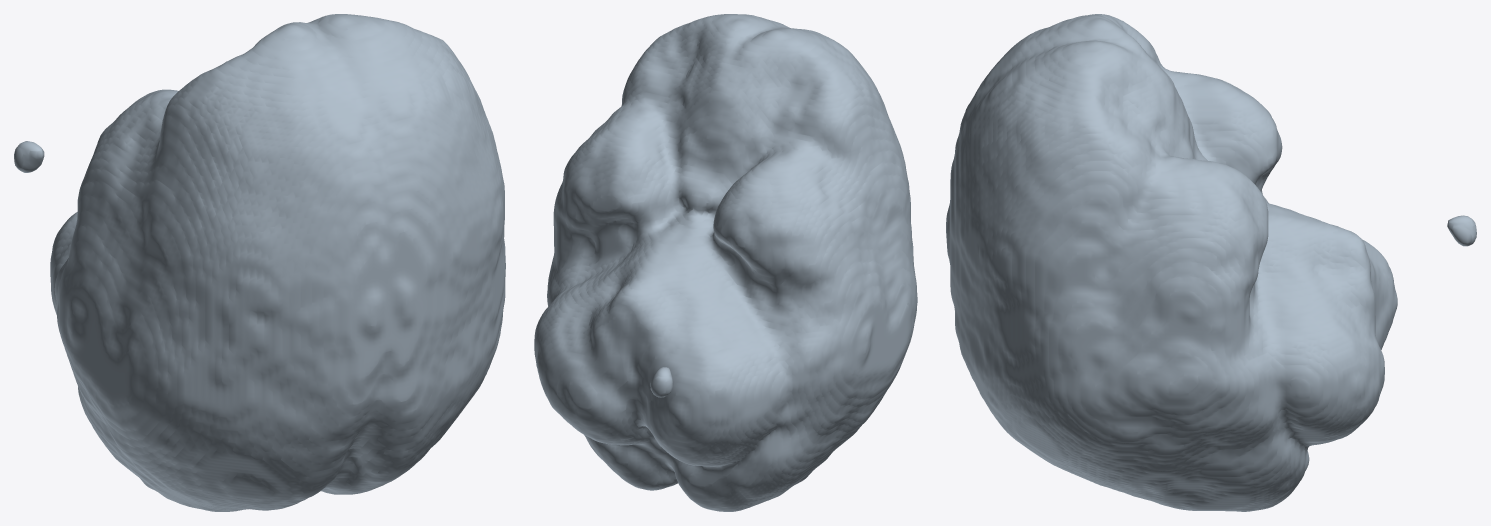
3 views of the same model, side by side, from view 1: azimuth 30°, elevation 25°; view 2: azimuth 150°, elevation 25°; view 3: azimuth 270°, elevation 25° (orthographic). The views are drawn at different scales.
Parts seen in each view (by area): view 1: world; view 2: world; view 3: world.
Boxes of the visible parts, box(x1,y1,x2,y2) form: world: box(14, 14, 505, 511); world: box(534, 14, 917, 511); world: box(946, 14, 1476, 511).
Bounding box in the file's own units: 128 × 165 × 171.
